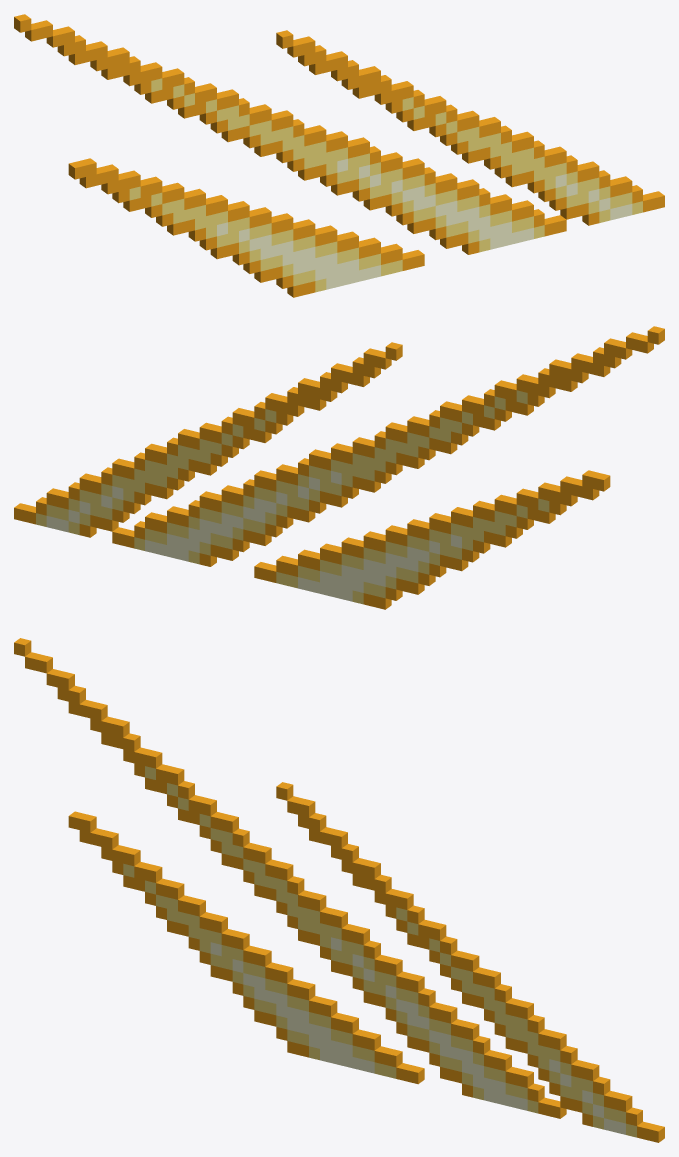
The model's file is Fight_747_2_07_fx.obj.
3 renders of one model, top to bottom at view 1: azimuth 30°, elevation 25°; view 2: azimuth 150°, elevation 25°; view 3: azimuth 330°, elevation 25°, orthographic.
Size of the model in its own units: 5.9 by 3 by 0.1.
Materials: 1 (1 with a texture image).
